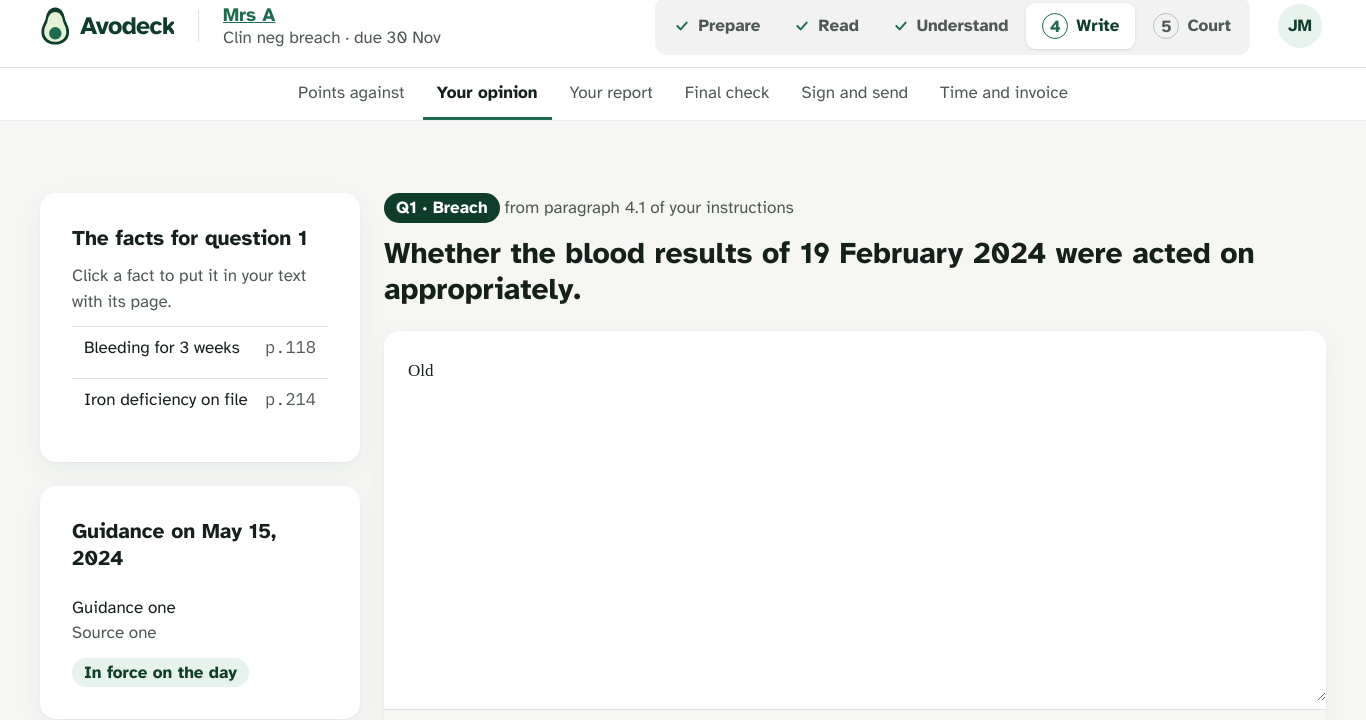
leaving the box asks for the checks again
Type " more" into the text box named "Your opinion on this question".
click(855, 516); type(" more")  # box 384,330 -> 1326,702
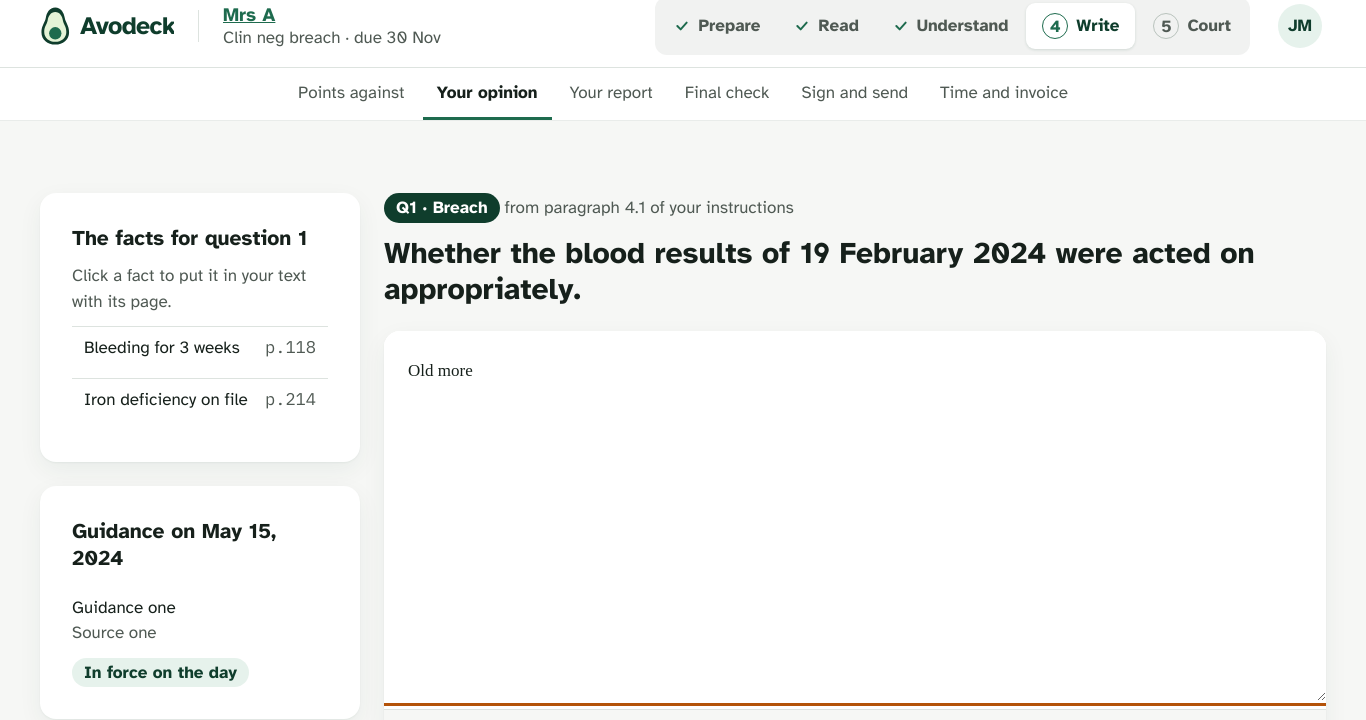
Press Tab
(page scrolled)
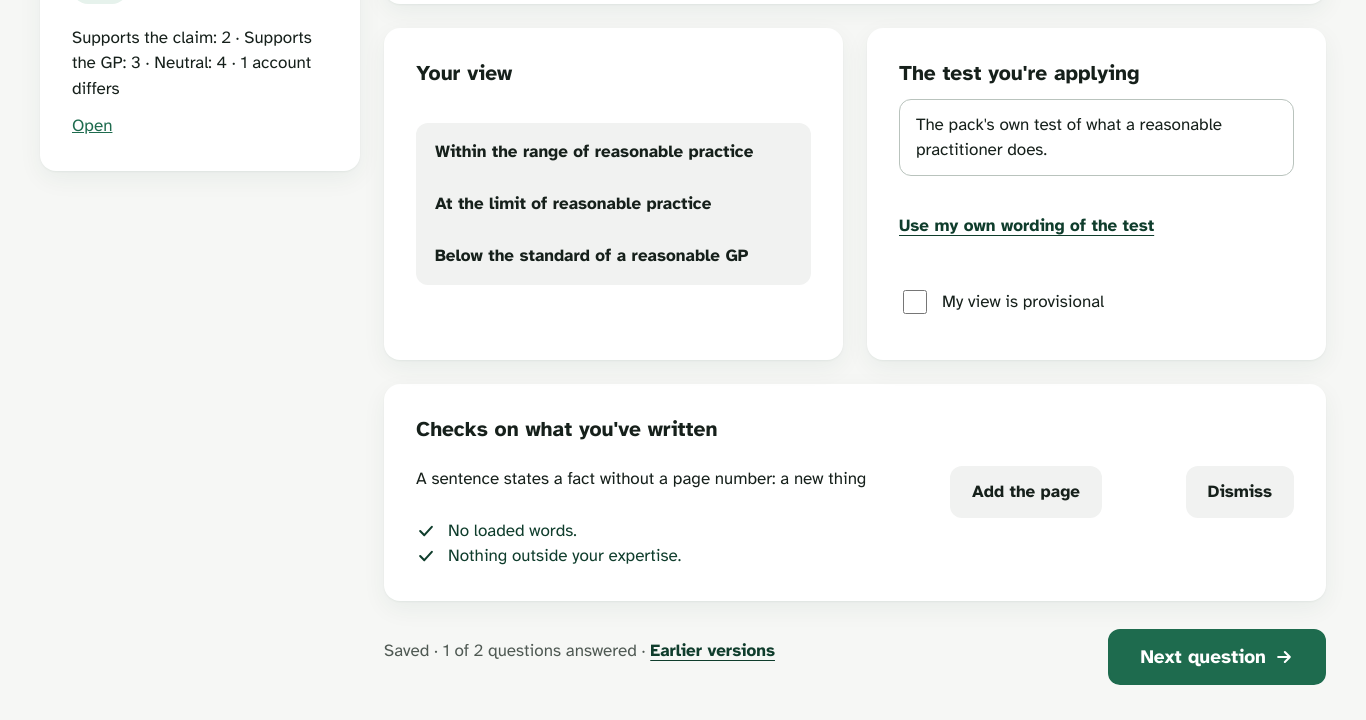
Expected: the text "A sentence states a fact without a page number: a new thing" is shown, 416,468 -> 866,489
